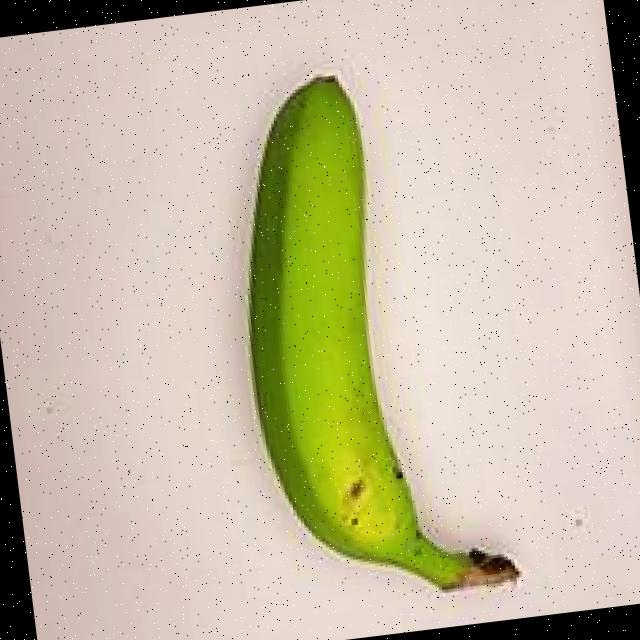Unripe: (137, 31, 588, 640)
